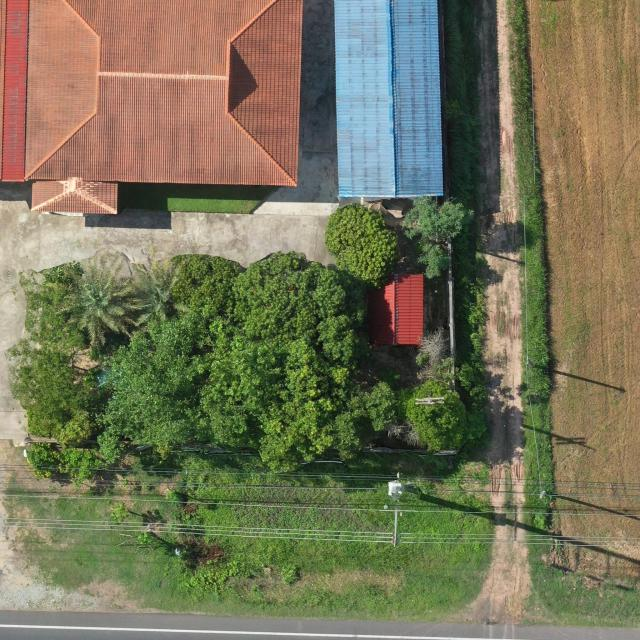tree: (198, 314, 398, 475), (97, 312, 216, 470), (230, 250, 368, 365), (7, 332, 110, 445), (56, 250, 136, 348), (405, 378, 489, 457), (323, 202, 400, 286), (402, 196, 476, 281), (168, 252, 250, 324), (129, 248, 195, 332), (108, 501, 130, 526)
